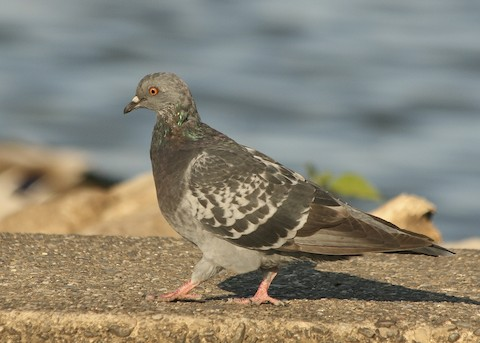pigeon: (120, 66, 459, 310)
